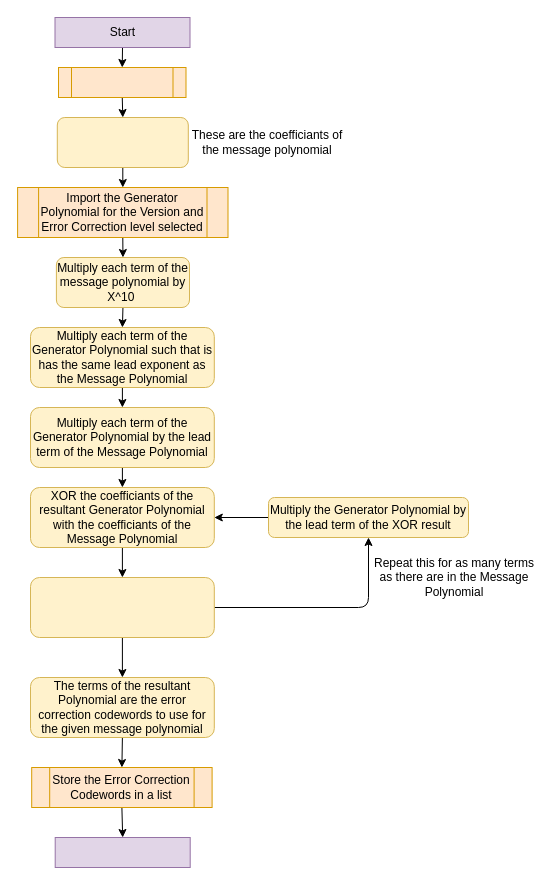
Image size: 557x885. Some labels were removed from this diagram. The shapes that lost their labels are listed below. From the top down, each one's box as (x1, y1, x2, y2) in pixels, then its label:
(58, 66, 186, 98): Import the Data Codewords
(56, 116, 188, 168): Convert each Data Codeword into it's decimal equvilant
(30, 576, 214, 638): Discard any term of the Generator Polynomial which has a coefficant of 0
(54, 836, 190, 868): End
